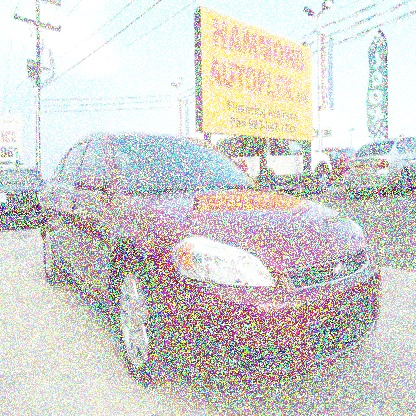Vehicle: (36, 129, 386, 389)
